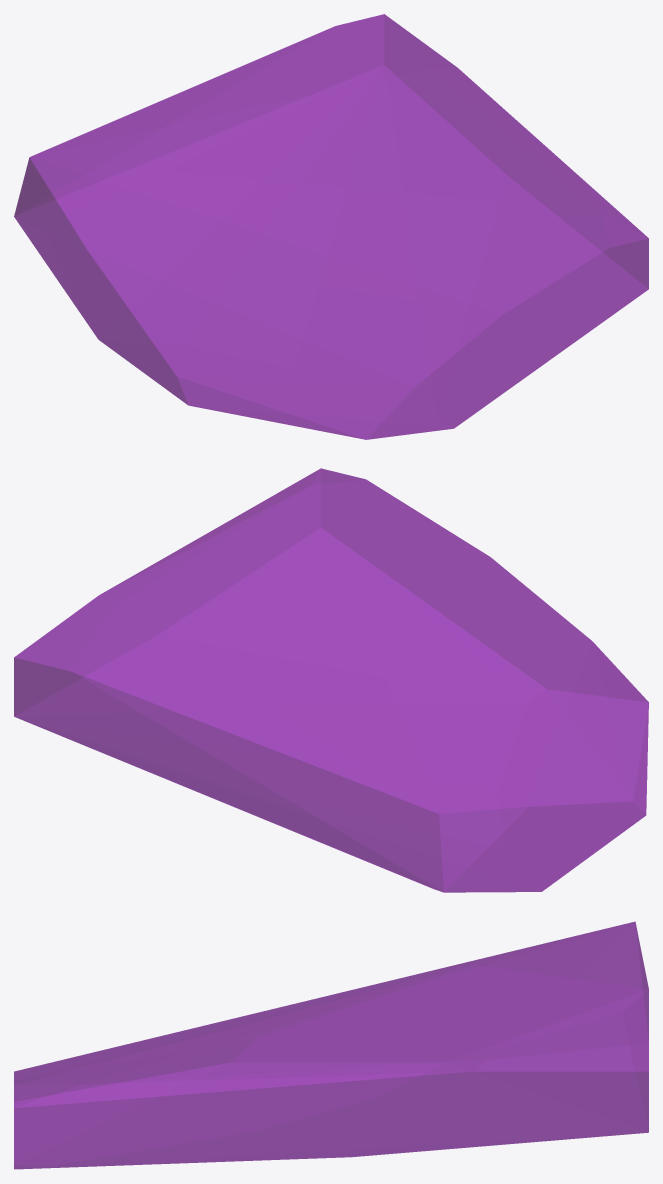
The picture shows the model from 3 angles, top to bottom: view 1: azimuth 30°, elevation 25°; view 2: azimuth 150°, elevation 25°; view 3: azimuth 270°, elevation 25°; orthographic projection. The views are drawn at different scales.
Visible parts, largest first — view 1: Shape_IndexedFaceSet.044_Shape_IndexedFaceSet.6307; view 2: Shape_IndexedFaceSet.044_Shape_IndexedFaceSet.6307; view 3: Shape_IndexedFaceSet.044_Shape_IndexedFaceSet.6307.
Part boxes in pixels (<box>): Shape_IndexedFaceSet.044_Shape_IndexedFaceSet.6307: <box>14,14,648,439</box>; Shape_IndexedFaceSet.044_Shape_IndexedFaceSet.6307: <box>14,468,648,892</box>; Shape_IndexedFaceSet.044_Shape_IndexedFaceSet.6307: <box>14,921,648,1169</box>.
Size of the model in its own units: 0.0903 by 0.0404 by 0.1117.
